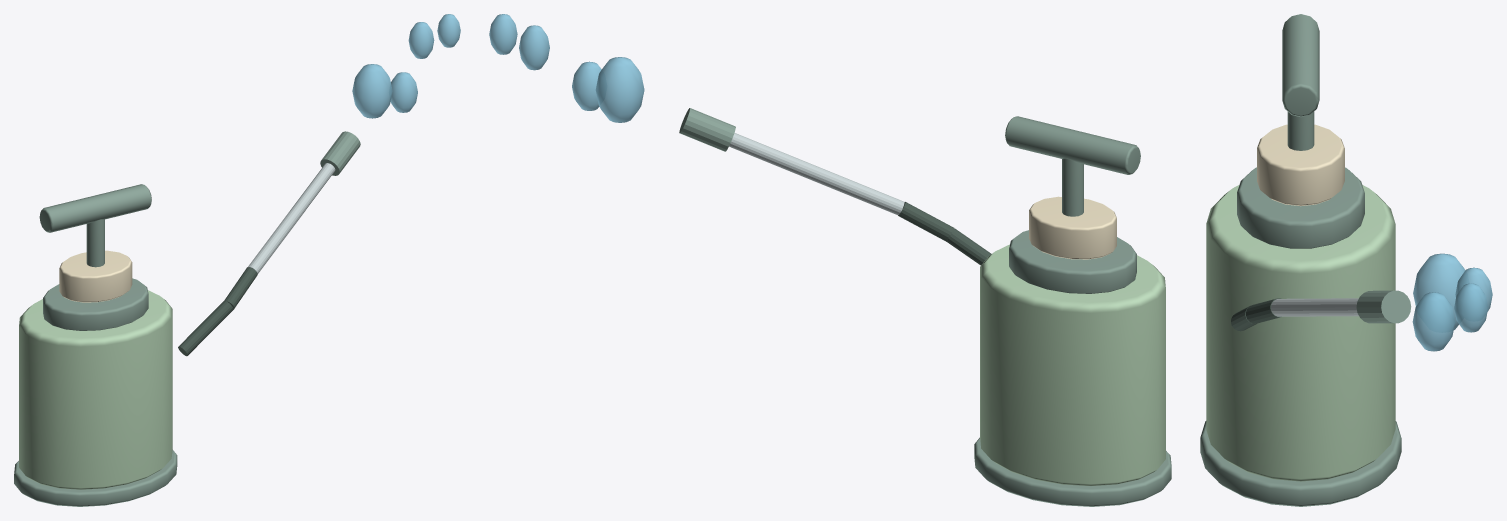
The model's file is WaterSprayKit.glb.
The picture shows the model from 3 angles, left to right: view 1: azimuth 30°, elevation 25°; view 2: azimuth 150°, elevation 25°; view 3: azimuth 270°, elevation 25°; orthographic projection. The views are drawn at different scales.
Visible parts, largest first — view 1: WaterSprayKit_Tank, WaterSprayKit_Top_Collar, WaterSprayKit_Base_Ring, WaterSprayKit_Cap, WaterSprayKit_Pump_Handle, WaterSprayKit_Droplet_01, WaterSprayKit_Wand, WaterSprayKit_Nozzle, WaterSprayKit_Hose_A, WaterSprayKit_Droplet_02, WaterSprayKit_Pump_Stem, WaterSprayKit_Droplet_03 (+2 smaller); view 2: WaterSprayKit_Tank, WaterSprayKit_Top_Collar, WaterSprayKit_Base_Ring, WaterSprayKit_Cap, WaterSprayKit_Pump_Handle, WaterSprayKit_Wand, WaterSprayKit_Droplet_01, WaterSprayKit_Nozzle, WaterSprayKit_Pump_Stem, WaterSprayKit_Droplet_03, WaterSprayKit_Droplet_02, WaterSprayKit_Droplet_04 (+1 smaller); view 3: WaterSprayKit_Tank, WaterSprayKit_Top_Collar, WaterSprayKit_Base_Ring, WaterSprayKit_Cap, WaterSprayKit_Pump_Handle, WaterSprayKit_Droplet_02, WaterSprayKit_Droplet_01, WaterSprayKit_Nozzle, WaterSprayKit_Wand, WaterSprayKit_Droplet_04, WaterSprayKit_Pump_Stem, WaterSprayKit_Droplet_03 (+2 smaller).
Boxes of the visible parts, <box> form: WaterSprayKit_Tank: <box>19,290,172,489</box>; WaterSprayKit_Top_Collar: <box>43,278,148,330</box>; WaterSprayKit_Base_Ring: <box>14,450,177,506</box>; WaterSprayKit_Cap: <box>59,250,132,302</box>; WaterSprayKit_Pump_Handle: <box>39,184,151,232</box>; WaterSprayKit_Droplet_01: <box>352,64,392,118</box>; WaterSprayKit_Wand: <box>248,163,335,273</box>; WaterSprayKit_Nozzle: <box>320,131,360,175</box>; WaterSprayKit_Hose_A: <box>178,301,233,356</box>; WaterSprayKit_Droplet_02: <box>390,72,417,112</box>; WaterSprayKit_Pump_Stem: <box>86,219,104,267</box>; WaterSprayKit_Droplet_03: <box>408,22,434,58</box>; WaterSprayKit_Tank: <box>980,244,1165,485</box>; WaterSprayKit_Top_Collar: <box>1009,230,1136,293</box>; WaterSprayKit_Base_Ring: <box>974,437,1171,506</box>; WaterSprayKit_Cap: <box>1029,196,1116,259</box>; WaterSprayKit_Pump_Handle: <box>1005,116,1140,174</box>; WaterSprayKit_Wand: <box>729,133,904,215</box>; WaterSprayKit_Droplet_01: <box>595,57,644,122</box>; WaterSprayKit_Nozzle: <box>679,108,735,151</box>; WaterSprayKit_Pump_Stem: <box>1062,158,1083,216</box>; WaterSprayKit_Droplet_03: <box>519,25,549,70</box>; WaterSprayKit_Droplet_02: <box>572,61,601,110</box>; WaterSprayKit_Droplet_04: <box>489,14,517,54</box>; WaterSprayKit_Tank: <box>1206,185,1395,481</box>; WaterSprayKit_Top_Collar: <box>1237,167,1364,248</box>; WaterSprayKit_Base_Ring: <box>1200,421,1401,506</box>; WaterSprayKit_Cap: <box>1257,124,1344,206</box>; WaterSprayKit_Pump_Handle: <box>1282,14,1319,116</box>; WaterSprayKit_Droplet_02: <box>1412,292,1455,351</box>; WaterSprayKit_Droplet_01: <box>1413,253,1465,329</box>; WaterSprayKit_Nozzle: <box>1356,290,1411,323</box>; WaterSprayKit_Wand: <box>1271,298,1358,316</box>; WaterSprayKit_Droplet_04: <box>1454,283,1488,332</box>; WaterSprayKit_Pump_Stem: <box>1287,111,1314,150</box>; WaterSprayKit_Droplet_03: <box>1455,267,1492,311</box>.
Size of the model in its own units: 1.56 by 0.9605 by 0.5484.
